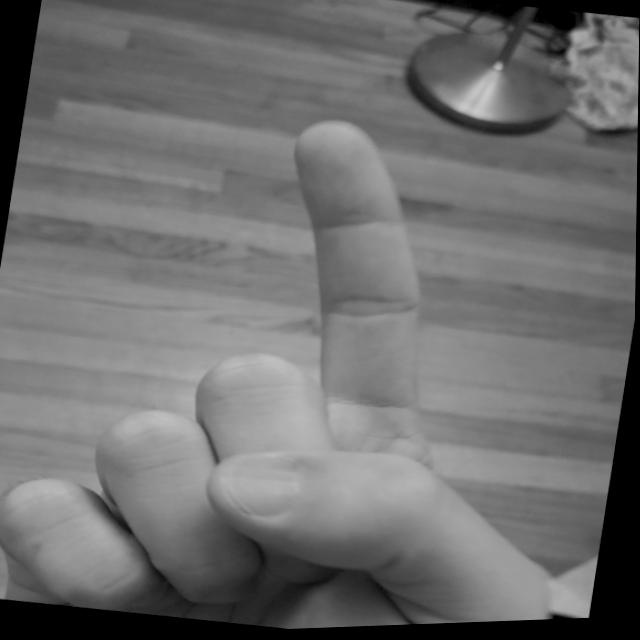D: (0, 65, 638, 639)
